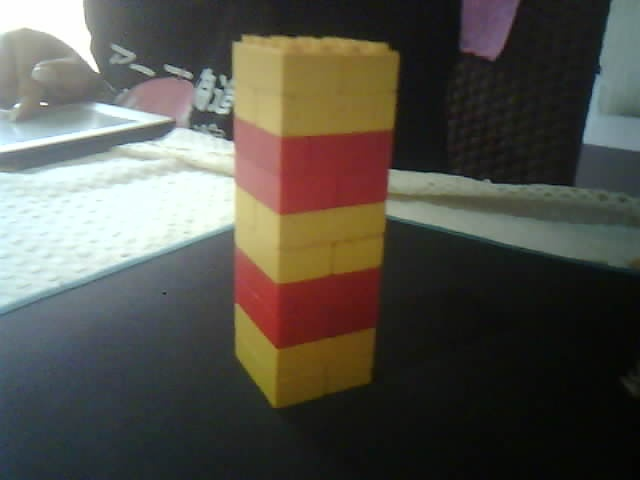lego: (229, 30, 401, 411)
